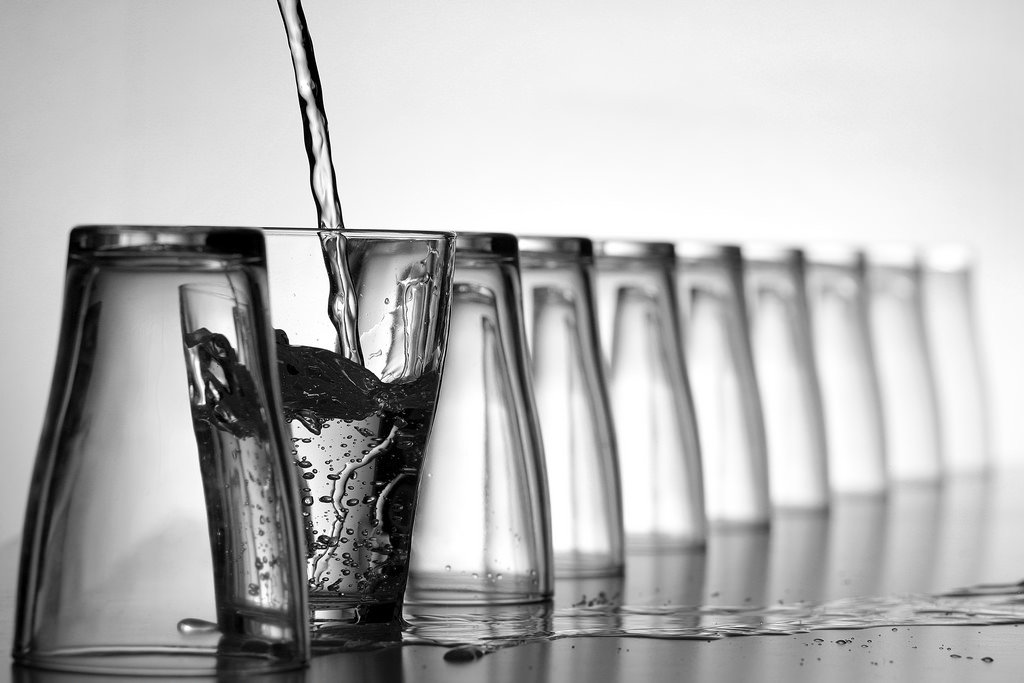glass of water: (188, 202, 442, 682)
